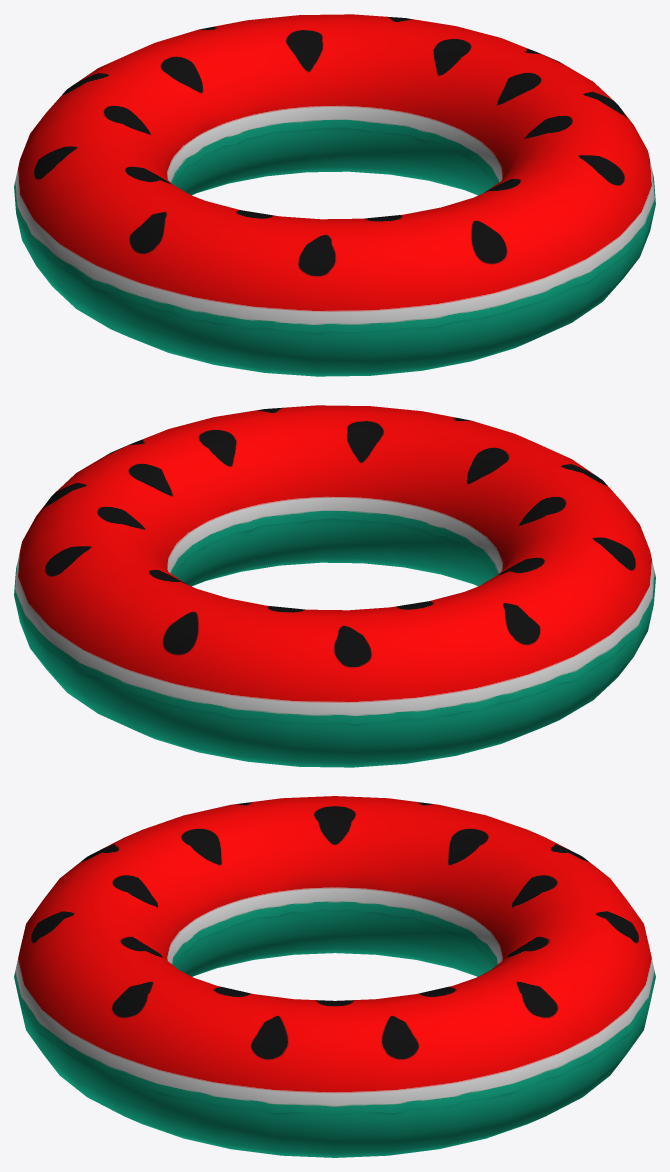
Rendered from PoolRing01_1.FBX.
3 views of the same model, one above another, from view 1: azimuth 30°, elevation 25°; view 2: azimuth 150°, elevation 25°; view 3: azimuth 270°, elevation 25° (orthographic).
Visible parts, largest first — view 1: PoolRing01_1; view 2: PoolRing01_1; view 3: PoolRing01_1.
Part boxes in pixels (x1,y1,x2,y2): PoolRing01_1: (14,14,655,376); PoolRing01_1: (14,405,655,767); PoolRing01_1: (14,796,655,1157).
Size of what is drawn, in the model's own units: 0.882 by 0.216 by 0.882.
